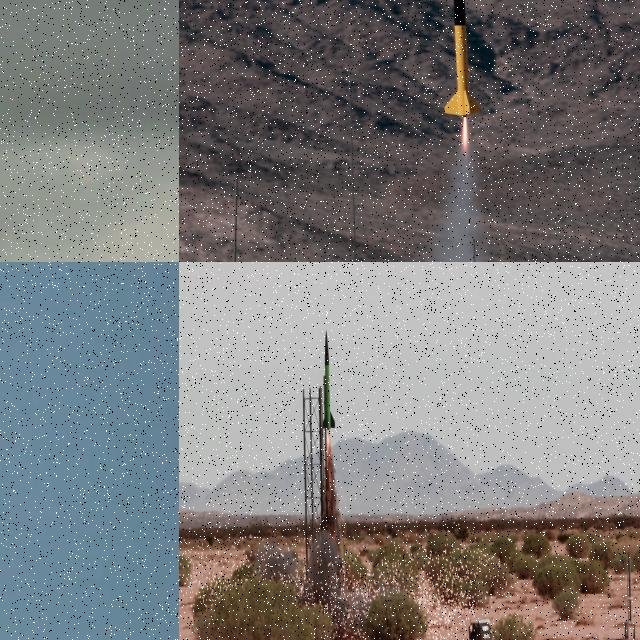Rocket: (442, 0, 481, 118), (322, 330, 336, 430)
